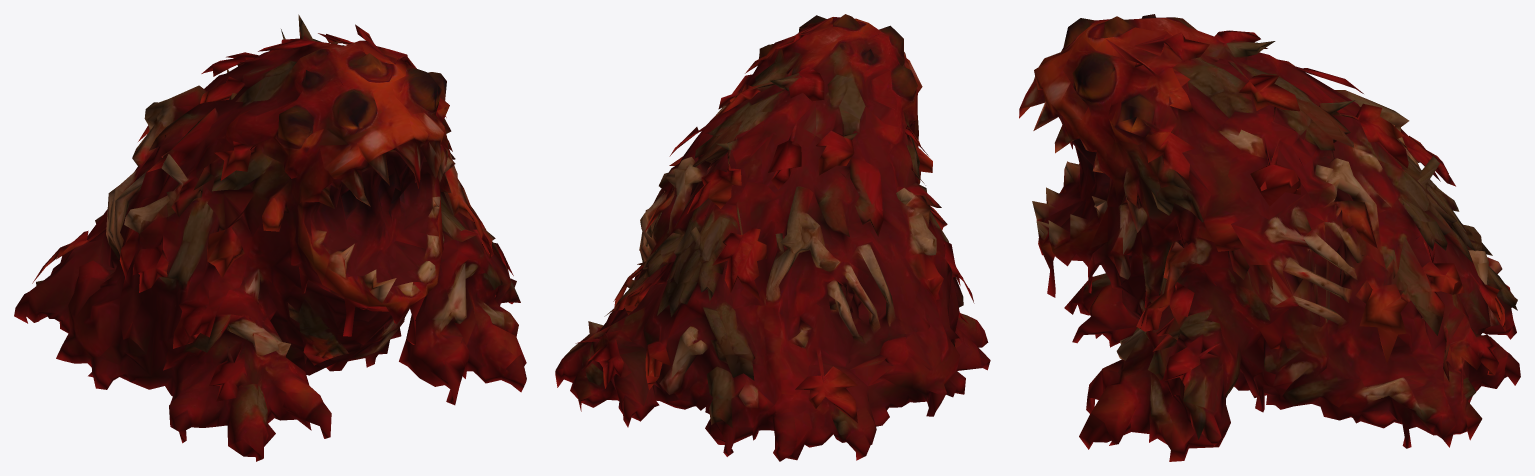
File: SapHorror.fbx
3 renders of one model, left to right at view 1: azimuth 30°, elevation 25°; view 2: azimuth 150°, elevation 25°; view 3: azimuth 270°, elevation 25°, orthographic. The views are drawn at different scales.
Visible parts, largest first — view 1: SapHorror_Body; view 2: SapHorror_Body; view 3: SapHorror_Body.
Part boxes in pixels (x1,y1,x2,y2): SapHorror_Body: (14, 14, 526, 461); SapHorror_Body: (555, 14, 990, 461); SapHorror_Body: (1019, 14, 1520, 461).
Size of the model in its own units: 1.29 by 1.1 by 1.37.
1 material, 1 textured.
